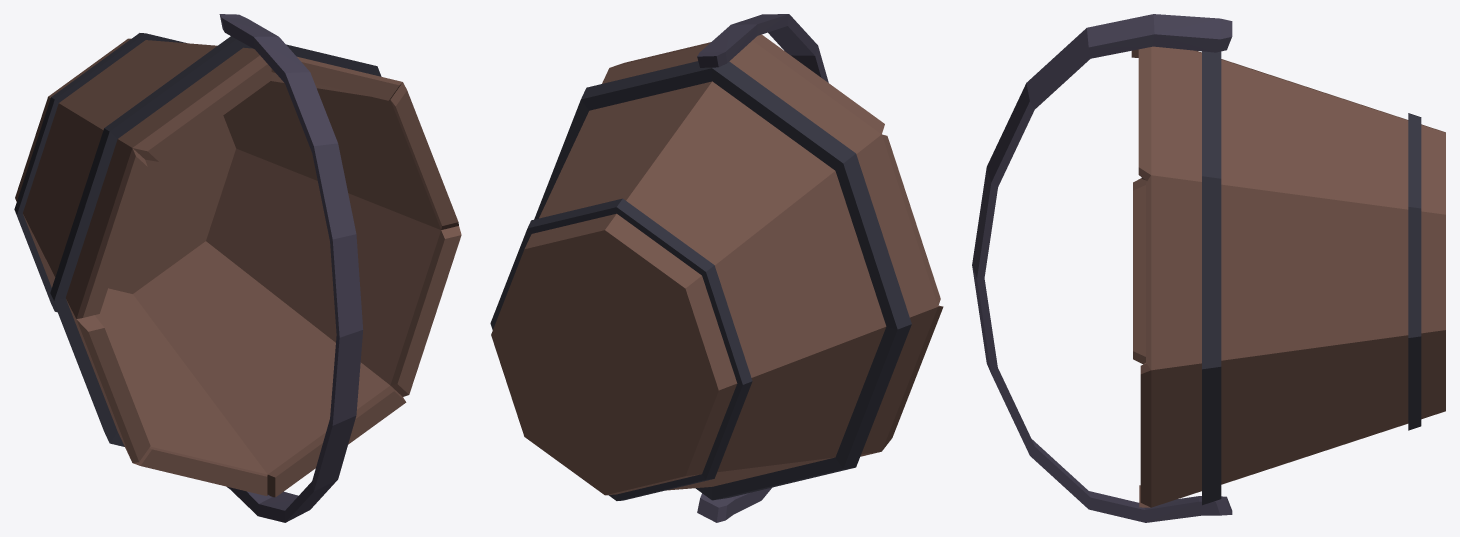
Rendered from SM_BucketPlastic_B.glb.
The picture shows the model from 3 angles, left to right: view 1: azimuth 30°, elevation 25°; view 2: azimuth 150°, elevation 25°; view 3: azimuth 270°, elevation 25°; orthographic projection. The views are drawn at different scales.
Parts seen in each view (by area): view 1: part_00, part_02, part_01; view 2: part_00, part_01, part_02; view 3: part_00, part_02, part_01.
Boxes of the visible parts, x1,y1,x2,y2 form: part_00: [15, 38, 461, 497]; part_02: [219, 14, 363, 522]; part_01: [14, 33, 381, 446]; part_00: [491, 34, 943, 495]; part_01: [490, 61, 911, 500]; part_02: [697, 14, 828, 522]; part_00: [1131, 46, 1445, 507]; part_02: [972, 14, 1232, 522]; part_01: [1202, 51, 1421, 505].
Size of the model in its own units: 0.6105 by 0.7261 by 0.6205.
